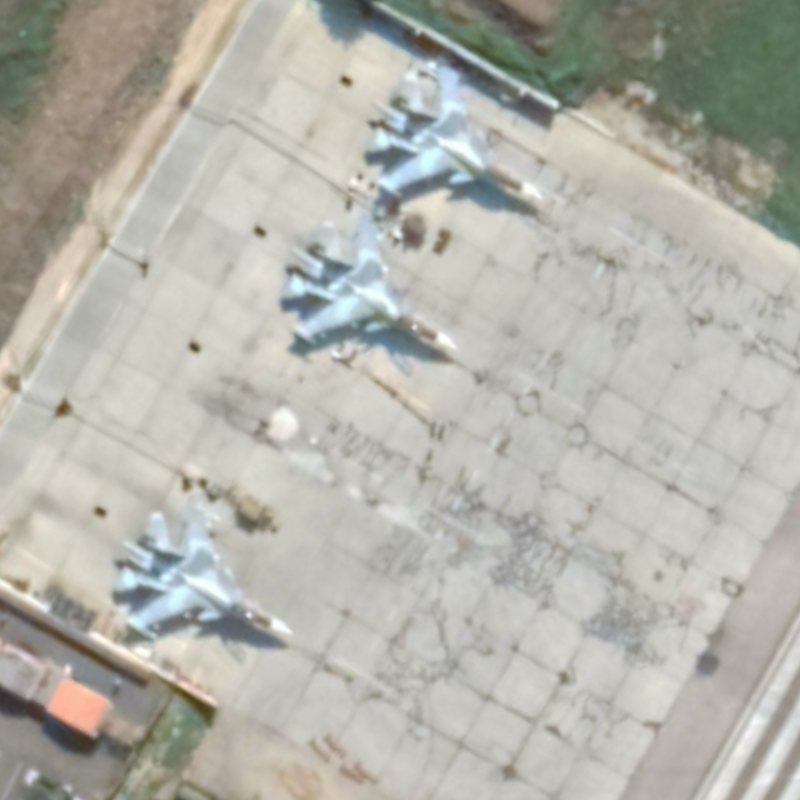A19: (360, 61, 547, 206), (279, 207, 459, 354), (110, 501, 296, 643)
